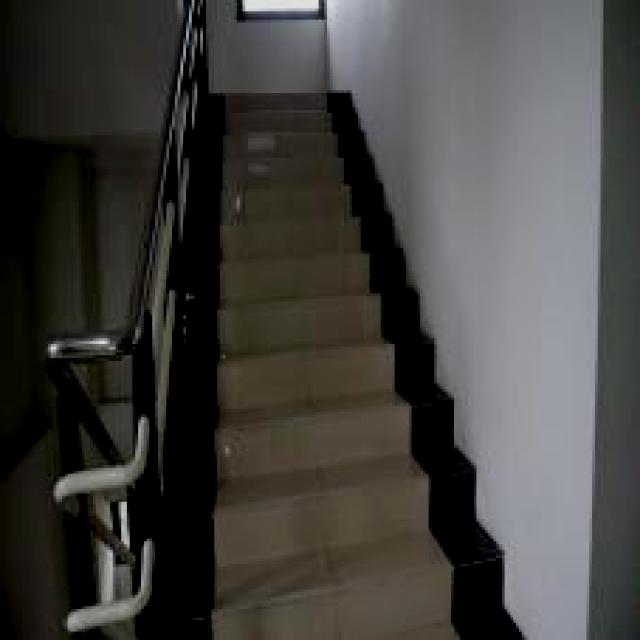upstair: (215, 69, 475, 638)
